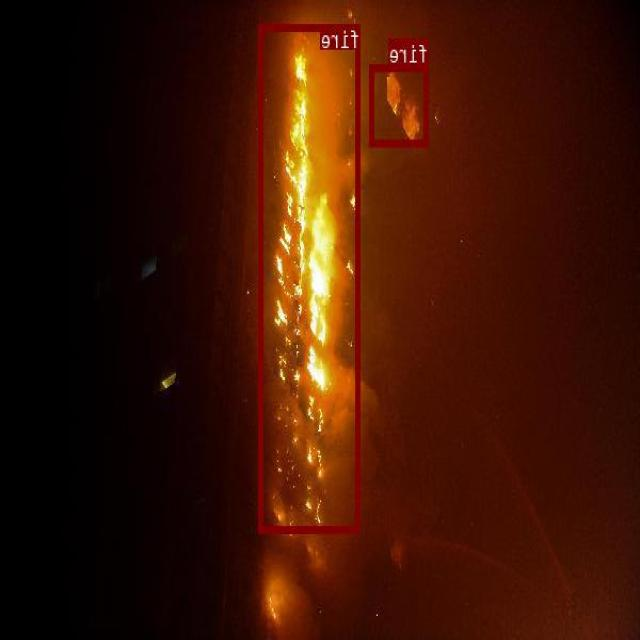fire: (260, 23, 361, 531), (371, 64, 429, 145)
